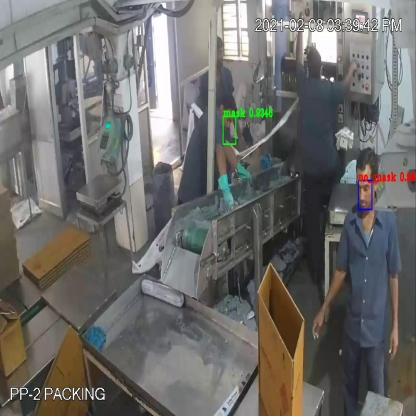glove: (216, 171, 238, 216)
no_glove: (303, 241, 347, 349), (387, 250, 407, 367)
